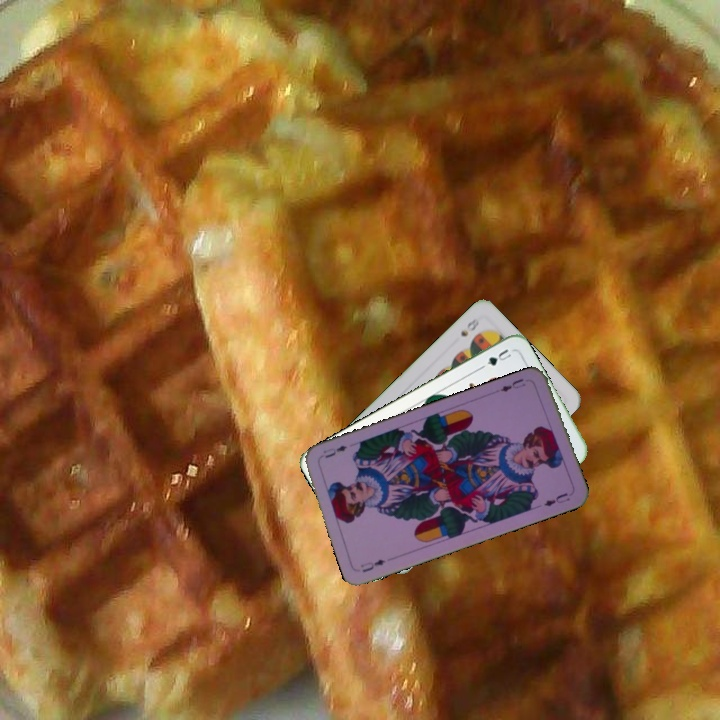EU: (356, 555, 388, 575), (497, 374, 528, 394)
GU: (477, 345, 514, 371)
S8: (456, 314, 481, 339)
